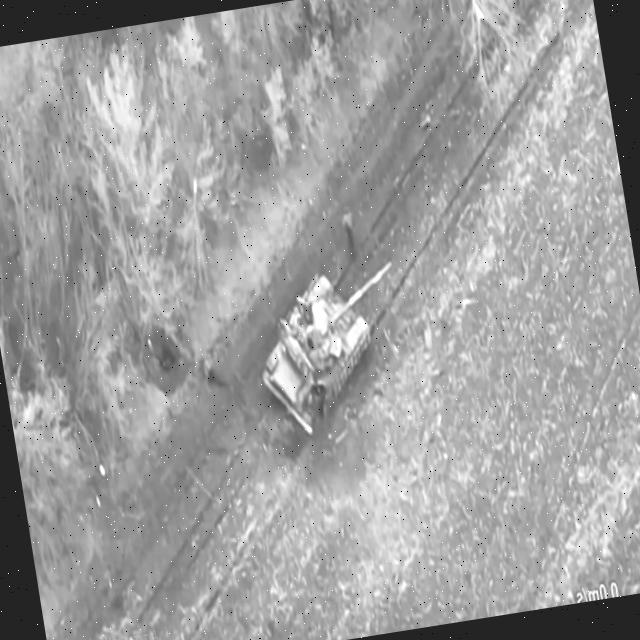MBT: (247, 253, 421, 447)
